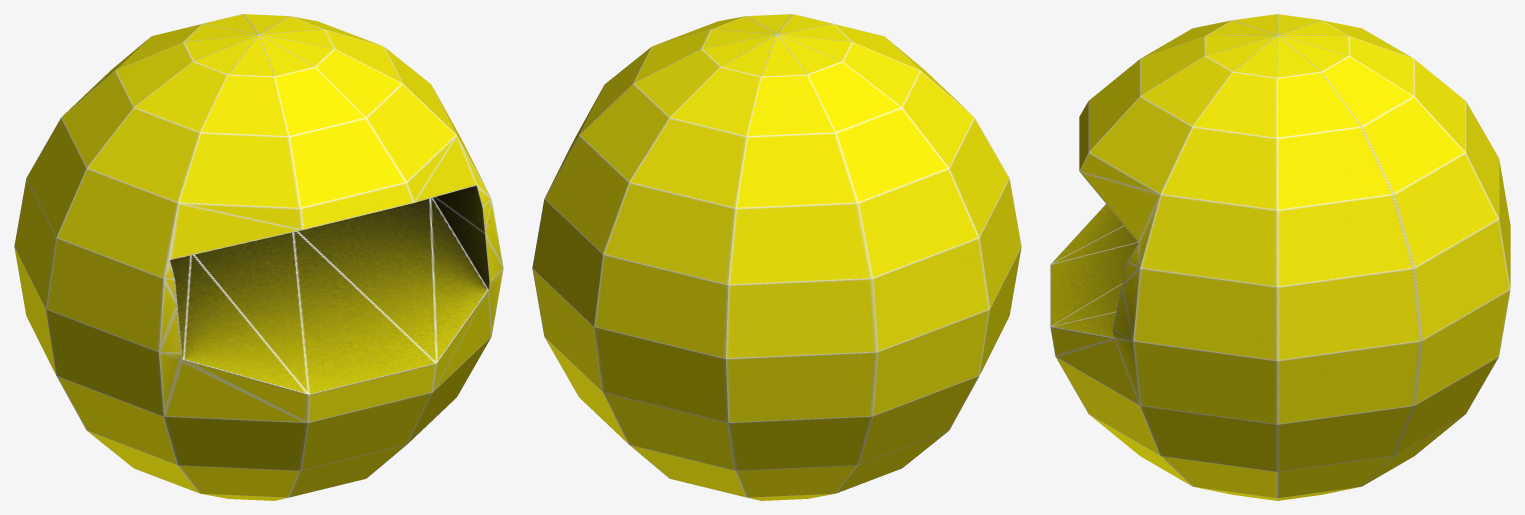
The model's file is pacman.fbx.
The picture shows the model from 3 angles, left to right: view 1: azimuth 30°, elevation 25°; view 2: azimuth 150°, elevation 25°; view 3: azimuth 270°, elevation 25°; orthographic projection.
Visible parts, largest first — view 1: pSphere2; view 2: pSphere2; view 3: pSphere2.
Boxes of the visible parts, left/top/right/bottom form: pSphere2: left=14, top=14, right=503, bottom=500; pSphere2: left=532, top=14, right=1021, bottom=500; pSphere2: left=1050, top=14, right=1510, bottom=500.
Size of the model in its own units: 2 by 2 by 1.88.
